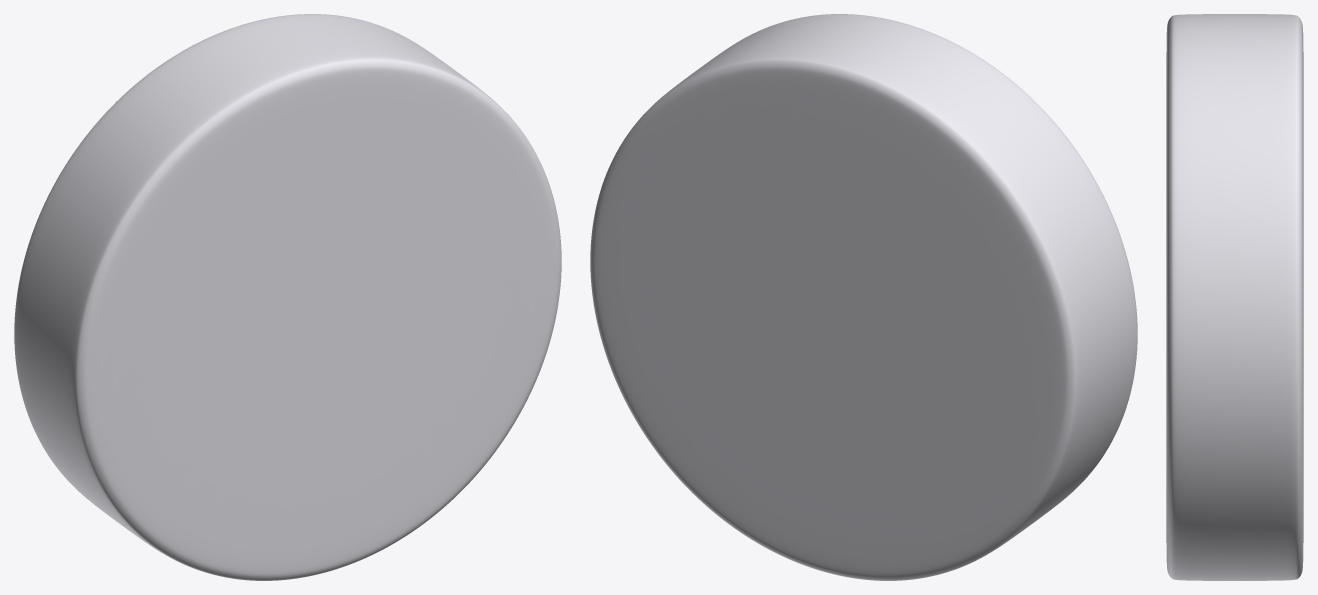
The model's file is linkedin.glb.
3 renders of one model, left to right at view 1: azimuth 30°, elevation 25°; view 2: azimuth 150°, elevation 25°; view 3: azimuth 270°, elevation 25°, orthographic.
Parts seen in each view (by area): view 1: Cylinder; view 2: Cylinder; view 3: Cylinder.
Boxes of the visible parts, left/top/right/bottom form: Cylinder: left=14, top=14, right=561, bottom=580; Cylinder: left=590, top=14, right=1137, bottom=580; Cylinder: left=1166, top=14, right=1303, bottom=580.
Size of the model in its own units: 0.6815 by 0.6815 by 0.165.
2 materials, 2 textured.
